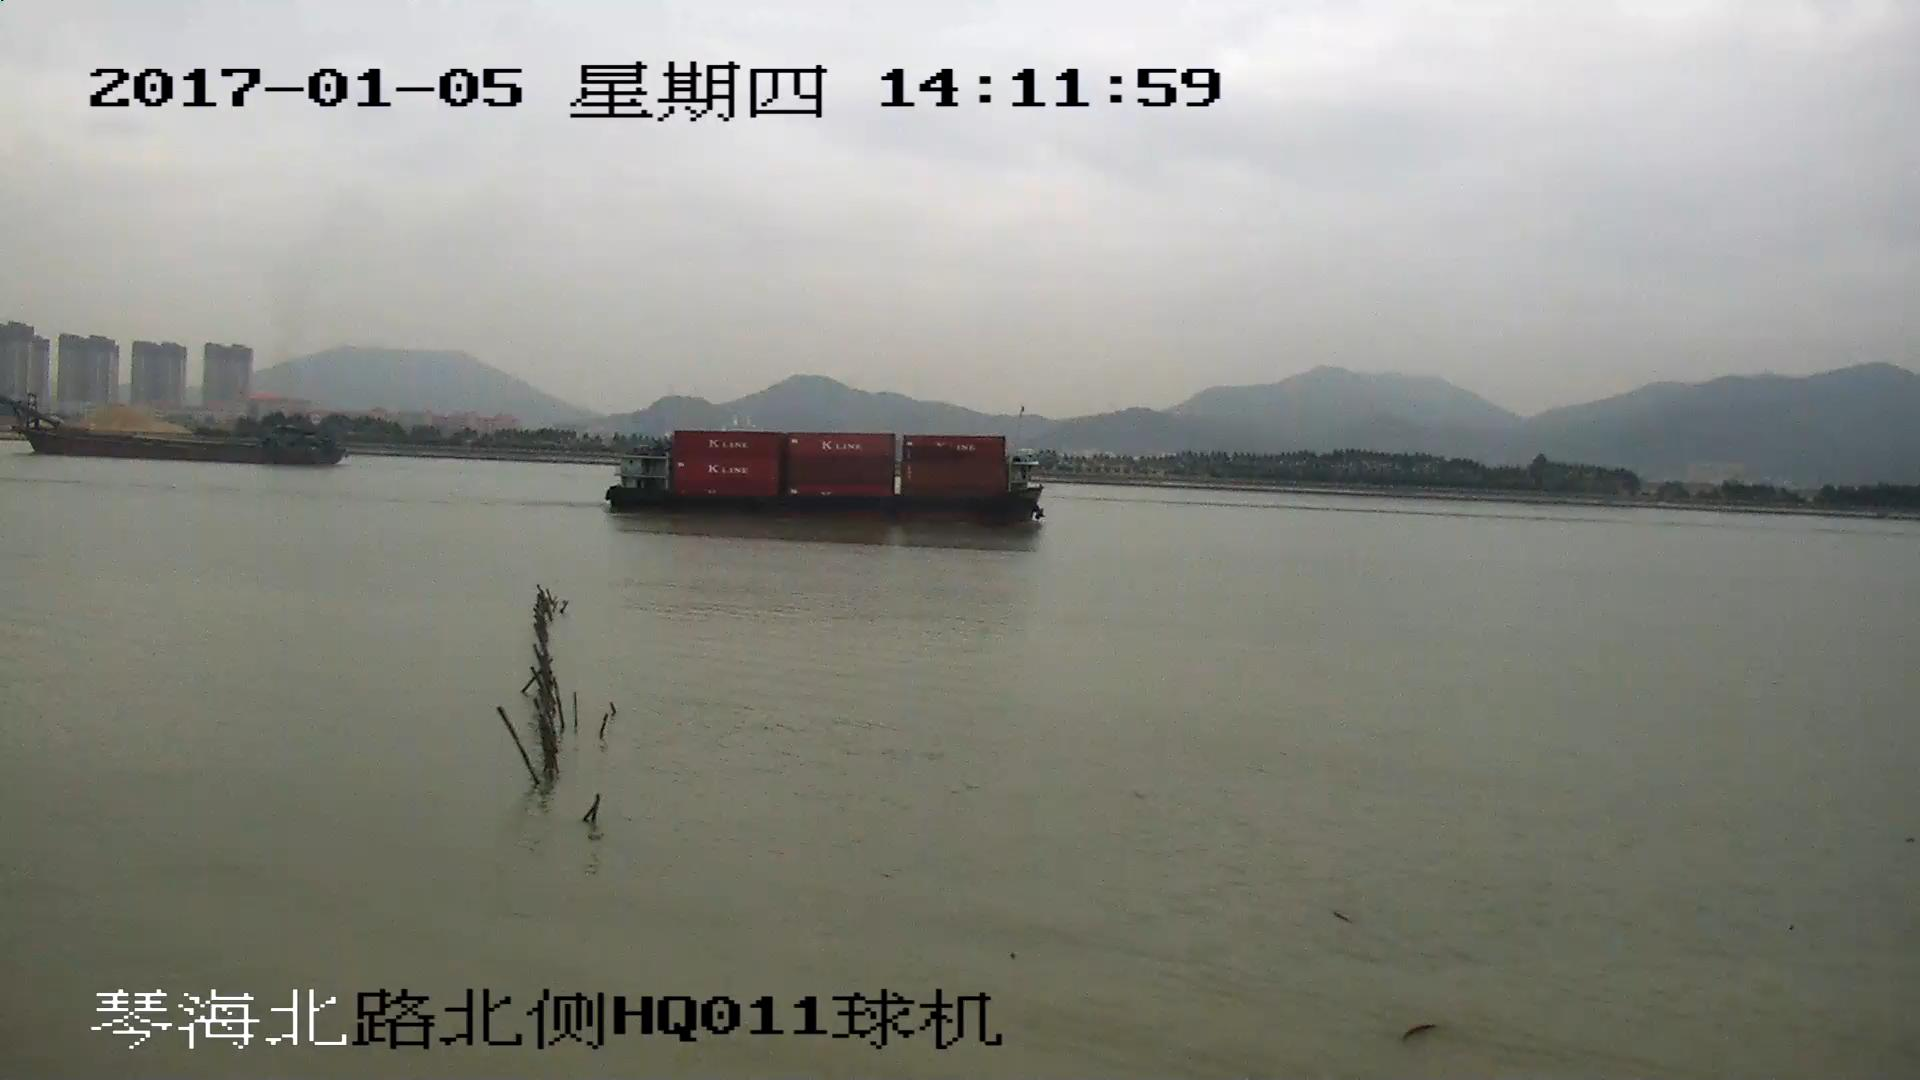bulk cargo carrier: (1, 398, 343, 468)
container ship: (603, 431, 1046, 529)
